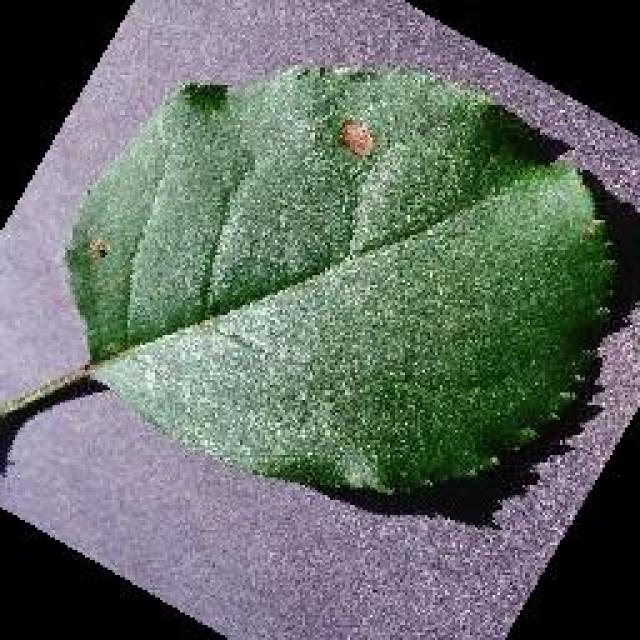Black_rot: (0, 0, 638, 638), (85, 155, 620, 497)
